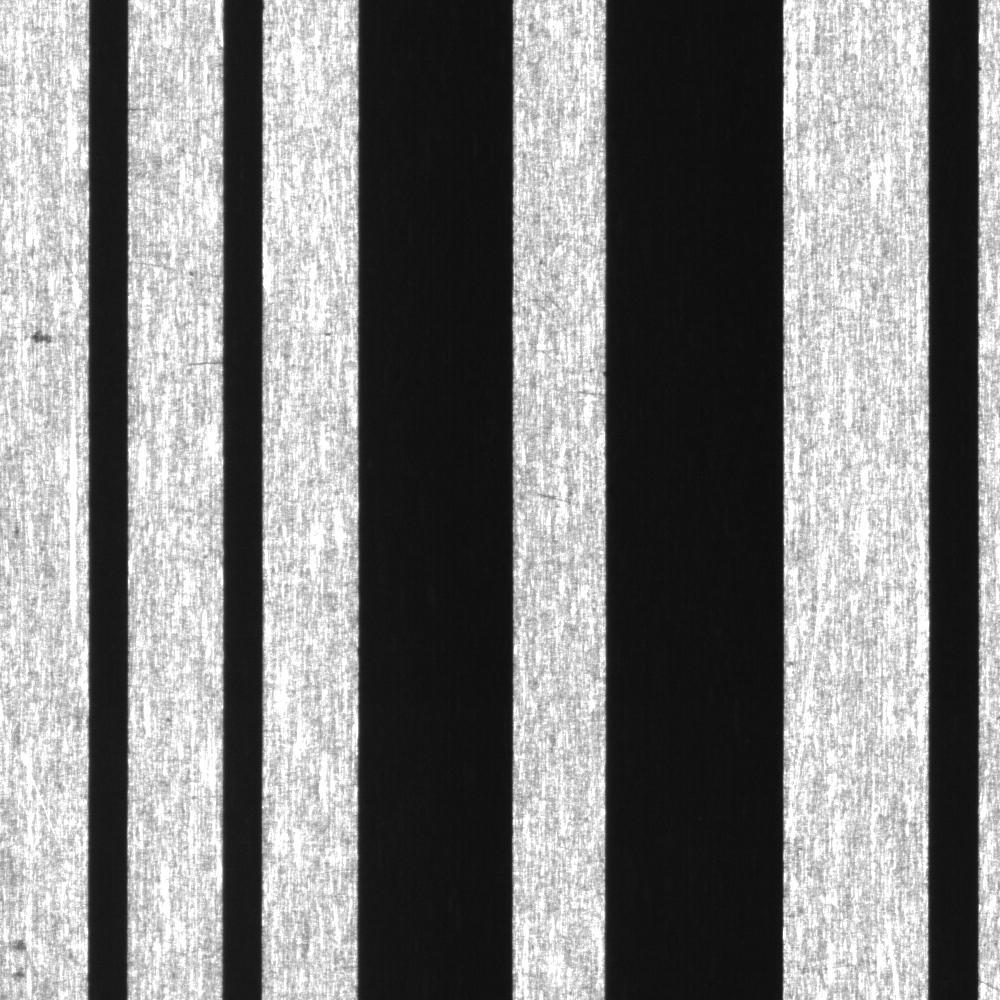Etching: (1, 929, 47, 998), (9, 325, 75, 350)
Scar: (271, 1, 355, 331), (12, 743, 84, 876), (514, 263, 577, 337), (519, 372, 605, 415), (516, 479, 605, 510), (129, 250, 203, 278), (180, 351, 223, 380)
